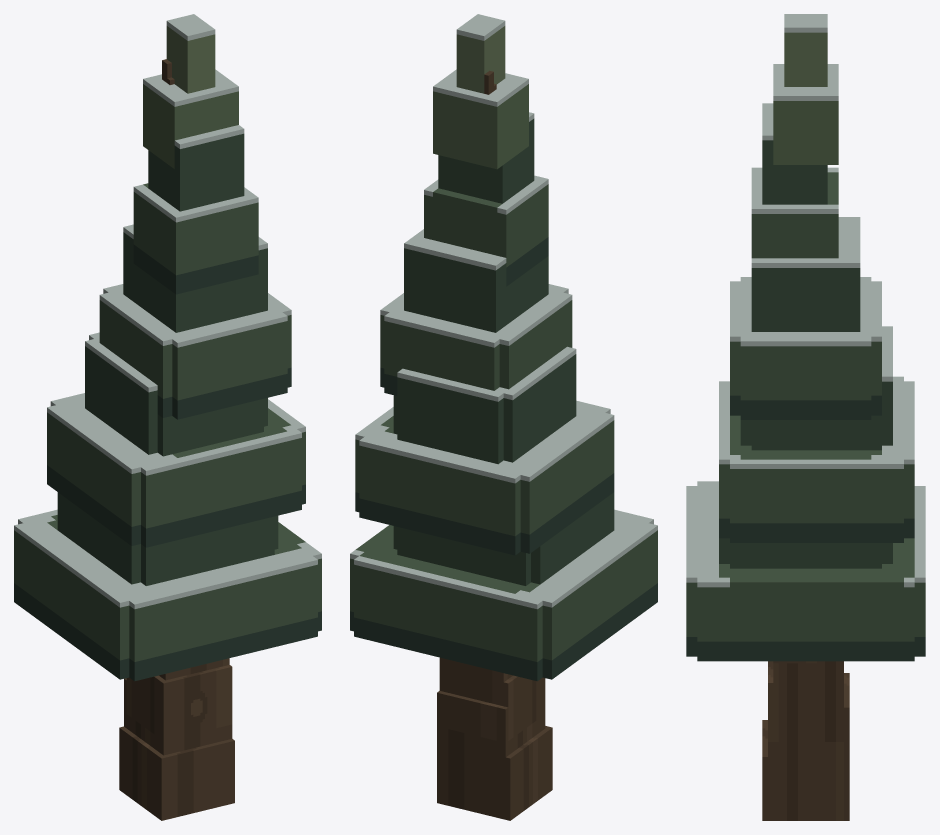
File: pine_mature_winter_3.glb
3 renders of one model, left to right at view 1: azimuth 30°, elevation 25°; view 2: azimuth 150°, elevation 25°; view 3: azimuth 270°, elevation 25°, orthographic. The views are drawn at different scales.
Visible parts, largest first — view 1: VoxelVisual; view 2: VoxelVisual; view 3: VoxelVisual.
Part boxes in pixels (x1,y1,x2,y2): VoxelVisual: (14, 14, 321, 820); VoxelVisual: (350, 14, 657, 820); VoxelVisual: (686, 14, 925, 820).
Size of what is drawn, in the model's own units: 5.5 by 20 by 5.5.
